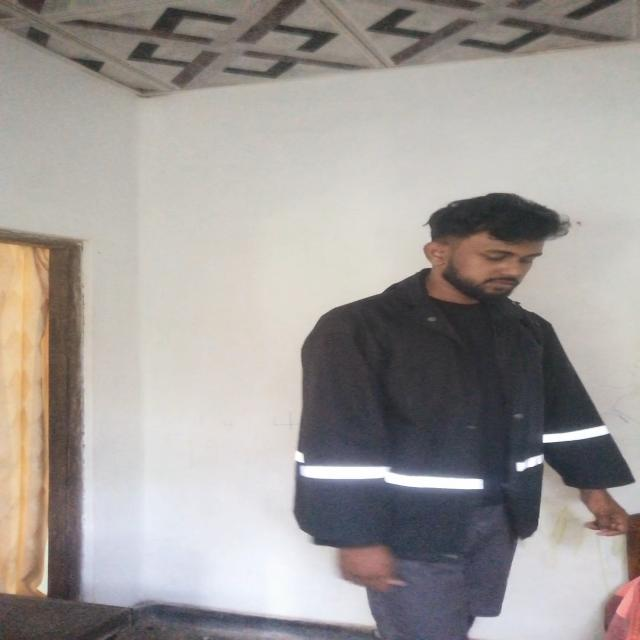Jacket_Wearer: (290, 268, 640, 560)
